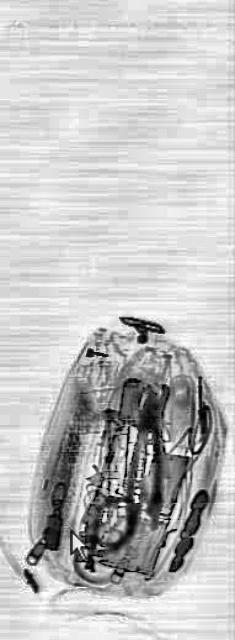Pliers: (123, 380, 169, 526)
